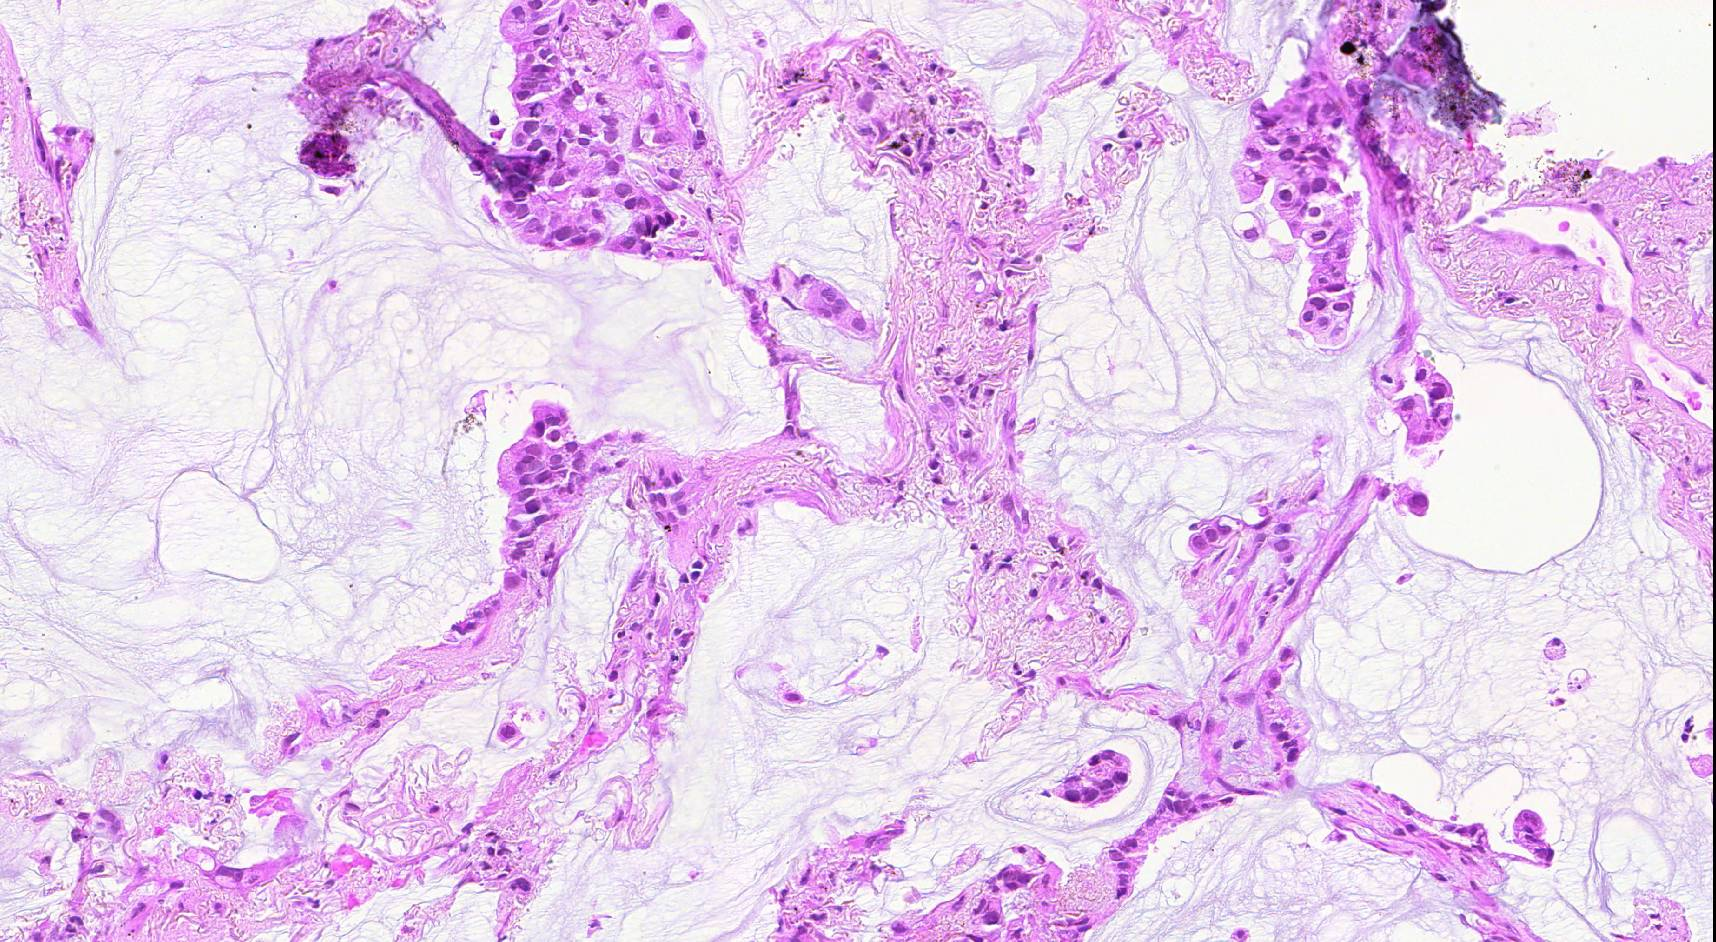stas: (773, 258, 876, 337), (1053, 745, 1130, 809)
